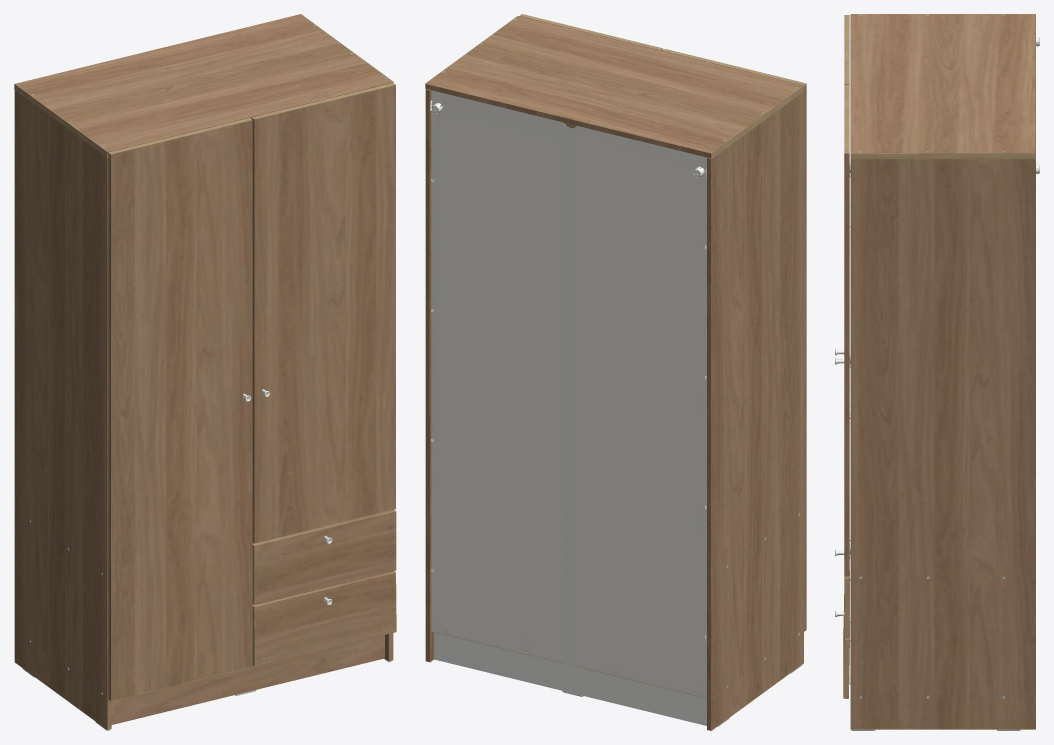
File: 08 - VILHATTEN - 2門2抽衣櫃衣櫥, 橡木紋, 98x57x190 公分 IKEA 線上購物.glb
3 renders of one model, left to right at view 1: azimuth 30°, elevation 25°; view 2: azimuth 150°, elevation 25°; view 3: azimuth 270°, elevation 25°, orthographic.
Parts seen in each view (by area): view 1: 1; view 2: 1, 2; view 3: 1.
Part boxes in pixels (x1,y1,x2,y2): 1: [14, 14, 396, 730]; 1: [425, 14, 806, 730]; 2: [564, 124, 575, 666]; 1: [835, 14, 1039, 730].
Size of the model in its own units: 0.9799 by 1.9 by 0.6081.
2 materials, 2 textured.
